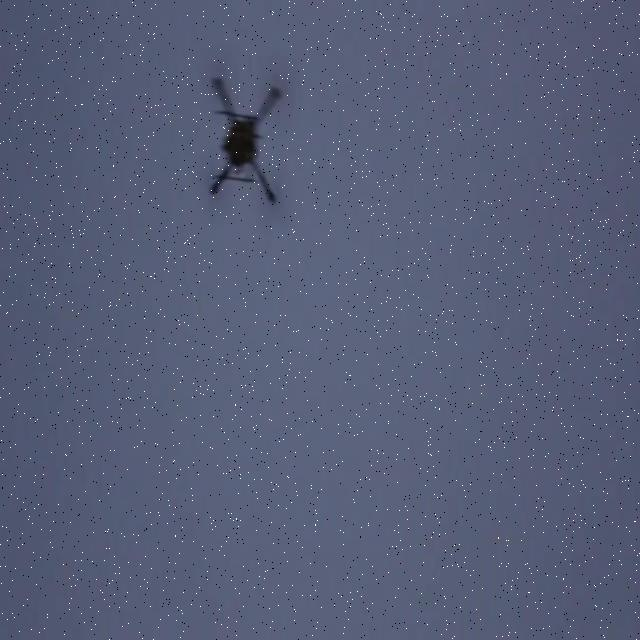UAV: (209, 74, 283, 204)
